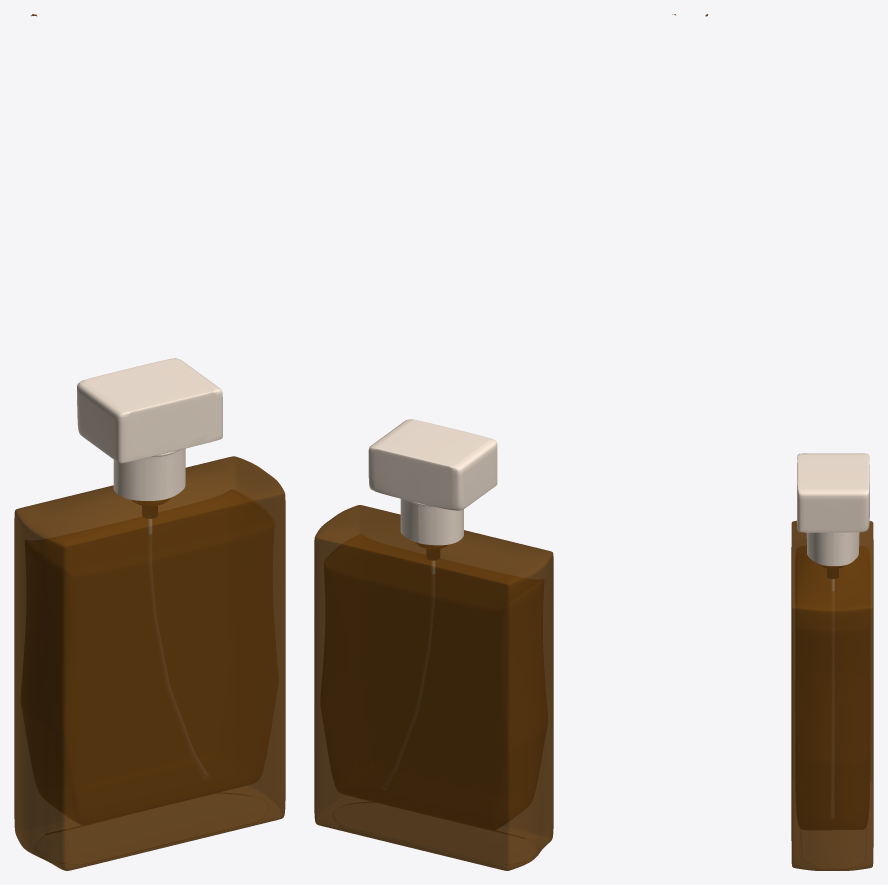
Rendered from perfume.glb.
The picture shows the model from 3 angles, left to right: view 1: azimuth 30°, elevation 25°; view 2: azimuth 150°, elevation 25°; view 3: azimuth 270°, elevation 25°; orthographic projection. The views are drawn at different scales.
Visible parts, largest first — view 1: Object_8, Object_20; view 2: Object_8, Object_20; view 3: Object_8, Object_20.
Part boxes in pixels (x1=…): Object_8: x1=14, y1=456, x2=285, y2=870; Object_20: x1=77, y1=358, x2=222, y2=500; Object_8: x1=314, y1=505, x2=553, y2=870; Object_20: x1=368, y1=419, x2=497, y2=545; Object_8: x1=791, y1=520, x2=873, y2=870; Object_20: x1=797, y1=453, x2=869, y2=565.
Size of the model in its own units: 1.67 by 4.65 by 0.9613.
Materials: 6 (6 with a texture image).
